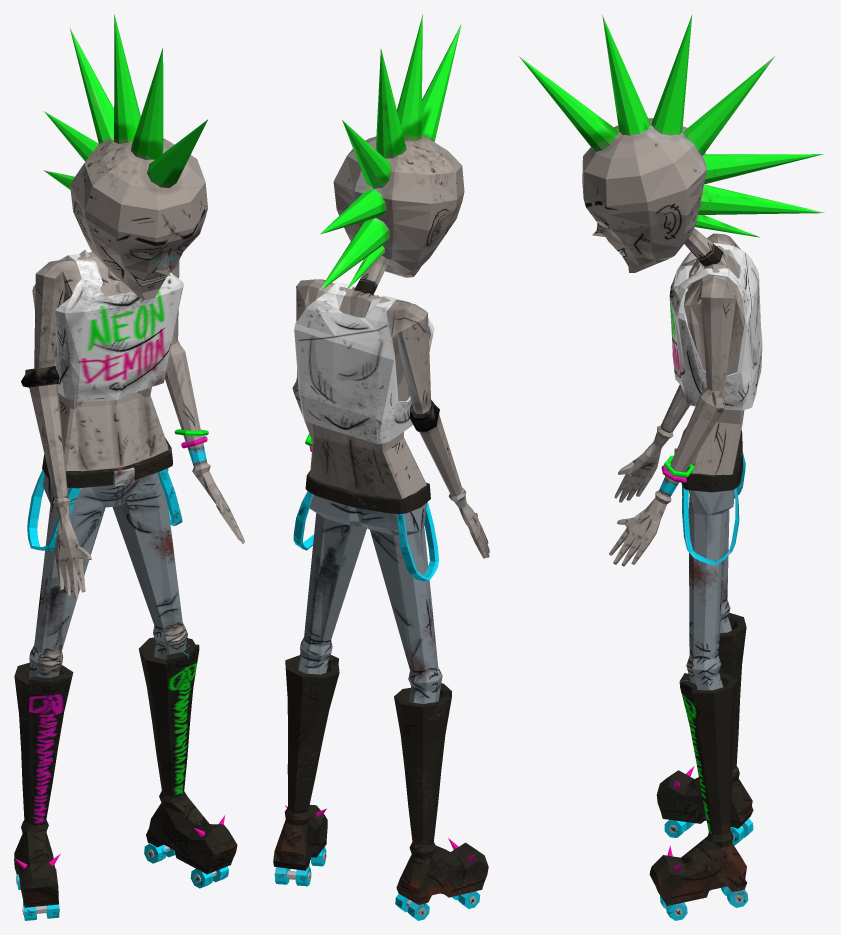
The model's file is punkAnimation_000034.obj.
3 renders of one model, left to right at view 1: azimuth 30°, elevation 25°; view 2: azimuth 150°, elevation 25°; view 3: azimuth 270°, elevation 25°, orthographic. The views are drawn at different scales.
Parts seen in each view (by area): view 1: Cube.004_Cube.003; view 2: Cube.004_Cube.003; view 3: Cube.004_Cube.003.
Boxes of the visible parts, bbox=[...] form: Cube.004_Cube.003: bbox=[14, 14, 244, 920]; Cube.004_Cube.003: bbox=[273, 14, 489, 920]; Cube.004_Cube.003: bbox=[519, 14, 825, 920].
Bounding box in the file's own units: 1.85 × 7.51 × 2.44.
